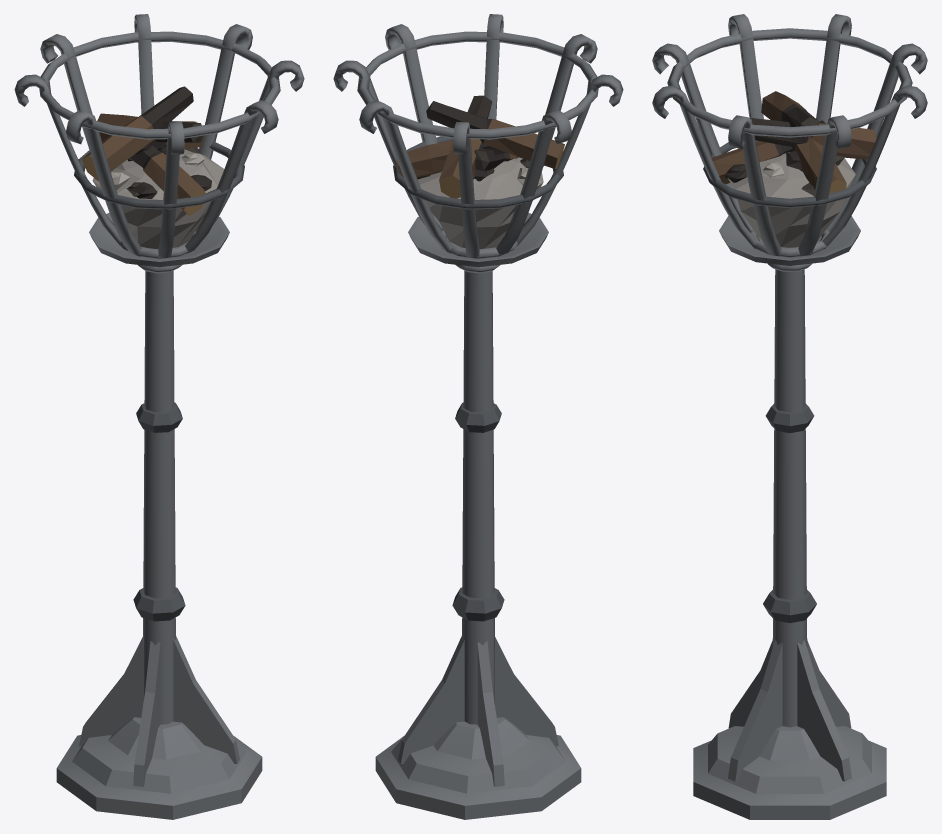
File: SM_LPD_Light_CressetUnlit_01.fbx
The picture shows the model from 3 angles, left to right: view 1: azimuth 30°, elevation 25°; view 2: azimuth 150°, elevation 25°; view 3: azimuth 270°, elevation 25°; orthographic projection.
Parts seen in each view (by area): view 1: SM_LPD_Light_CressetUnlit_01; view 2: SM_LPD_Light_CressetUnlit_01; view 3: SM_LPD_Light_CressetUnlit_01.
Part boxes in pixels (box(x1,y1,x2,y2)): SM_LPD_Light_CressetUnlit_01: box(14, 14, 304, 819); SM_LPD_Light_CressetUnlit_01: box(333, 14, 623, 819); SM_LPD_Light_CressetUnlit_01: box(652, 14, 927, 819).
Size of the model in its own units: 0.5273 by 1.5 by 0.5273.
